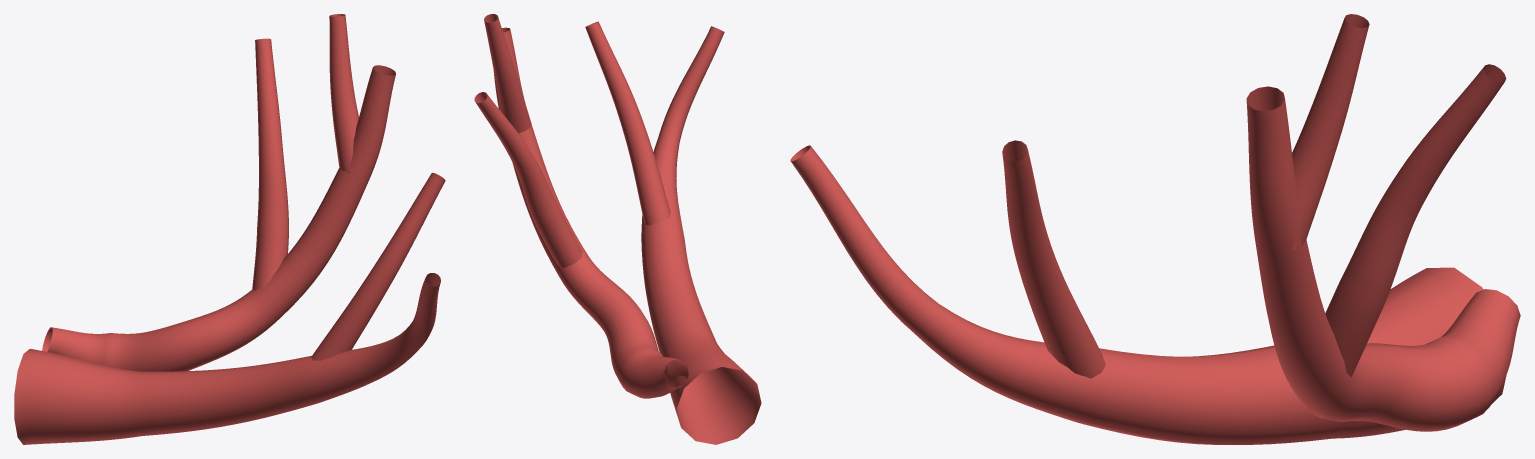
3 renders of one model, left to right at view 1: azimuth 30°, elevation 25°; view 2: azimuth 150°, elevation 25°; view 3: azimuth 270°, elevation 25°, orthographic. The views are drawn at different scales.
Visible parts, largest first — view 1: 左肺后段动脉; view 2: 左肺后段动脉; view 3: 左肺后段动脉.
Part boxes in pixels (x1,y1,x2,y2): 左肺后段动脉: (14, 14, 445, 444); 左肺后段动脉: (474, 14, 761, 444); 左肺后段动脉: (790, 14, 1520, 444).
Bounding box in the file's own units: 0.0716 × 0.0769 × 0.0829.
